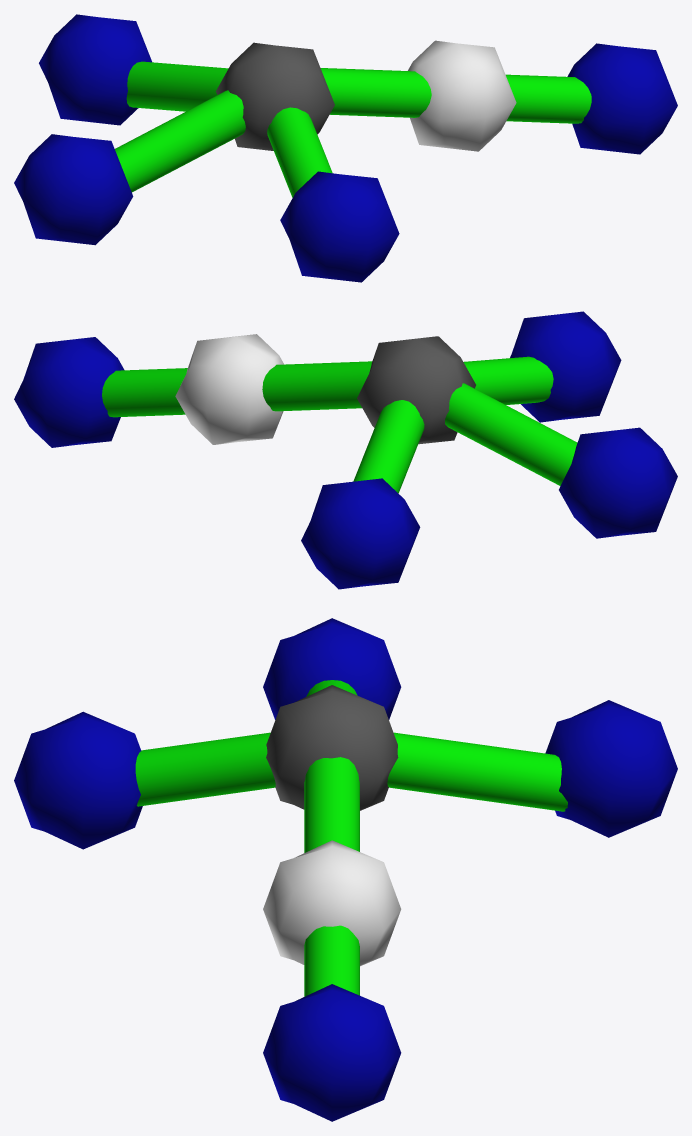
The model's file is Methanol.fbx.
3 views of the same model, one above another, from view 1: azimuth 30°, elevation 25°; view 2: azimuth 150°, elevation 25°; view 3: azimuth 270°, elevation 25° (orthographic). The views are drawn at different scales.
Visible parts, largest first — view 1: pCube7; view 2: pCube7; view 3: pCube7.
Part boxes in pixels (x1,y1,x2,y2): pCube7: (14,14,677,282); pCube7: (14,311,677,589); pCube7: (14,618,677,1121).
Bounding box in the file's own units: 32 × 9 × 24.
